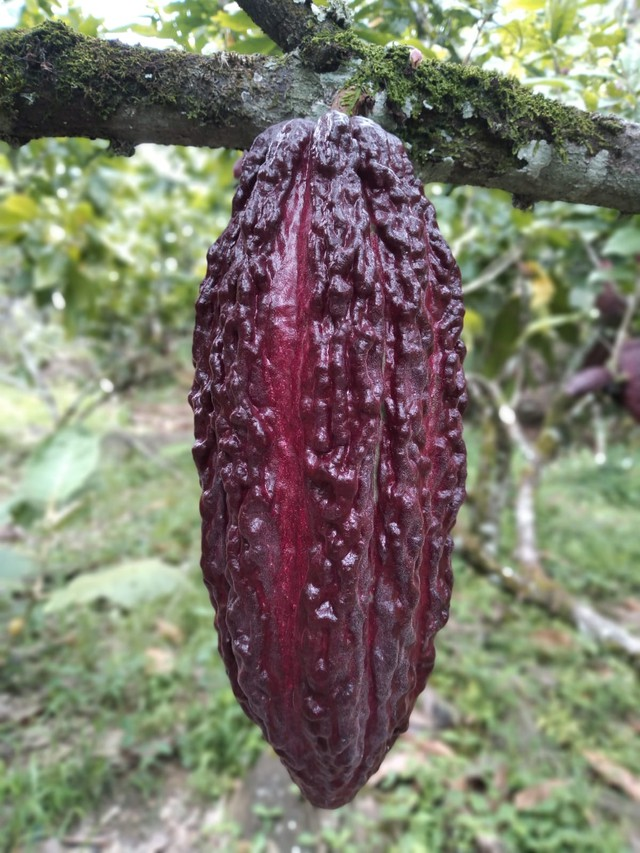Health: (140, 78, 501, 819)
